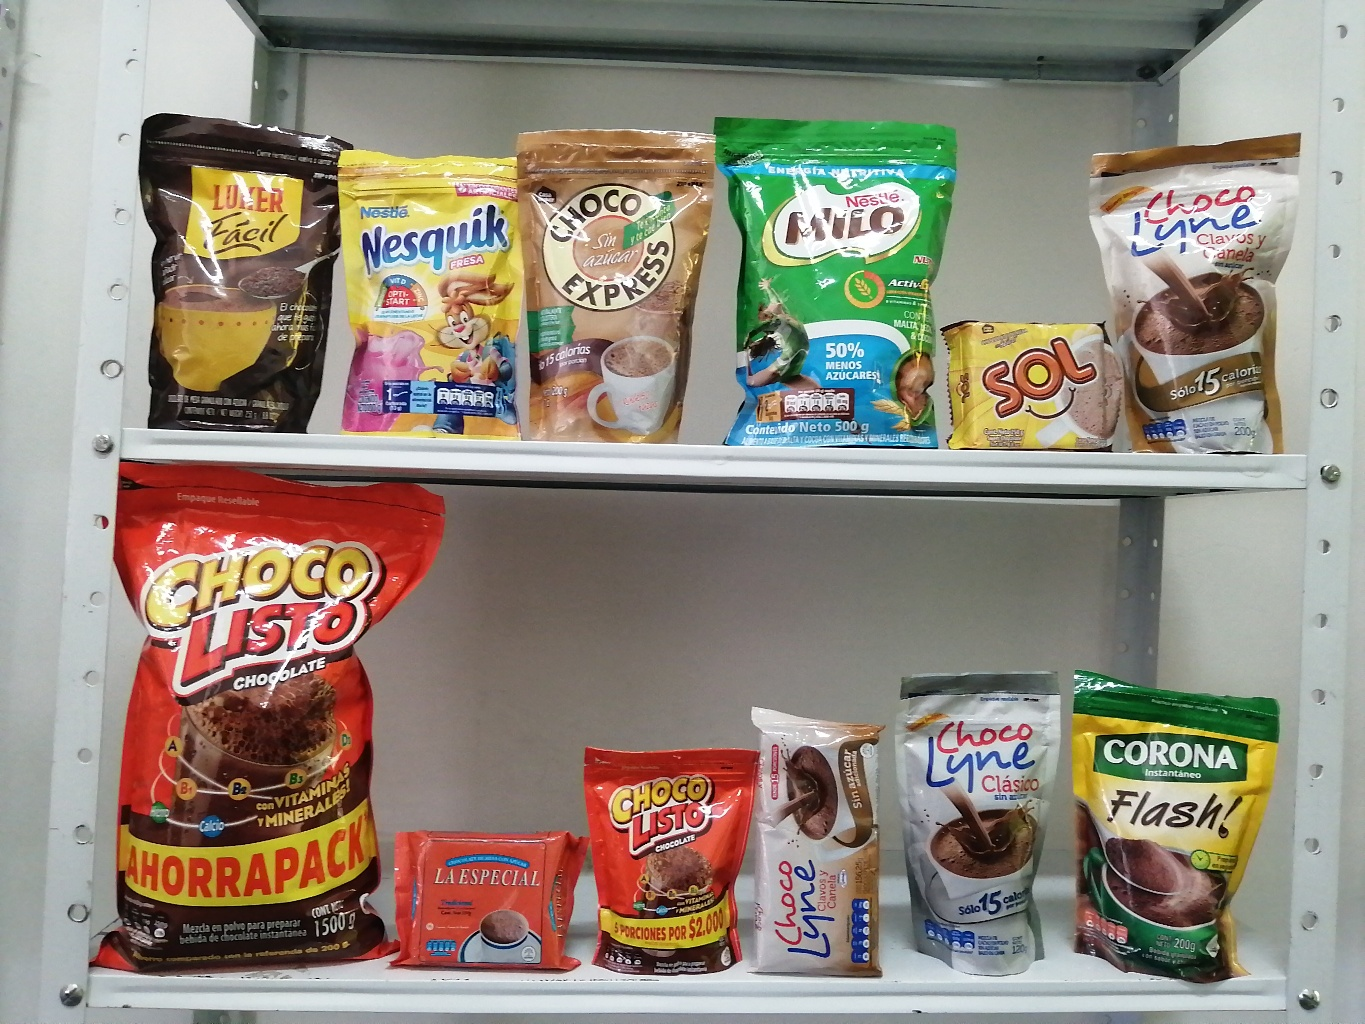COL0170103DYP1,500: (72, 449, 457, 990)
COL0170205DYP50000: (699, 103, 975, 456)
COL0170305DYP20000: (309, 128, 556, 439)
